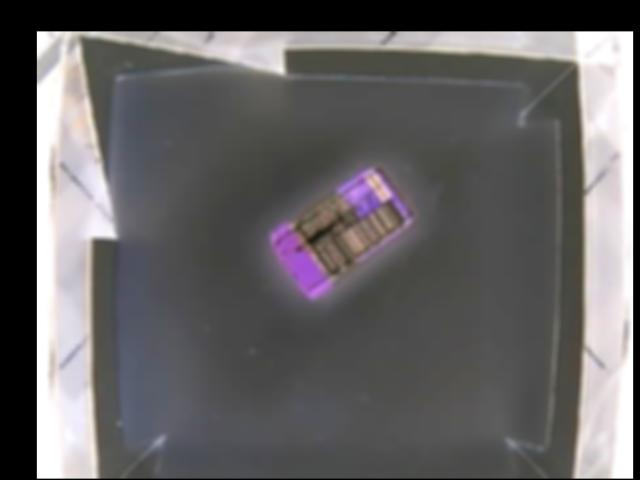Bottle: (270, 166, 417, 299)
